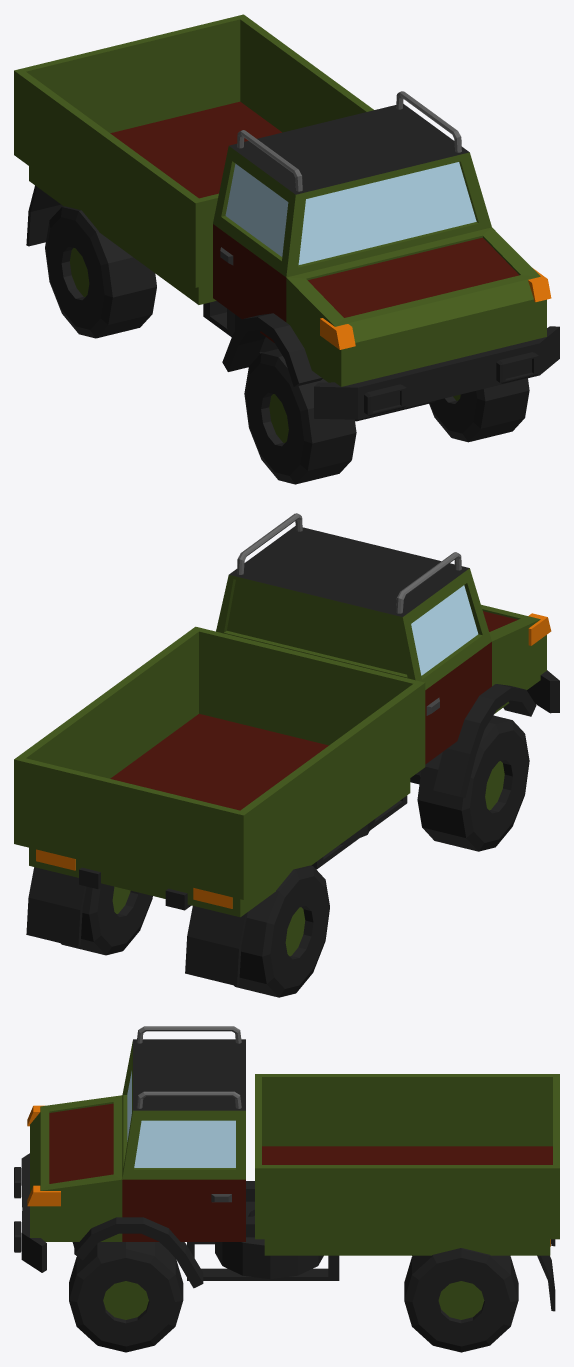
File: truck.glb
3 renders of one model, top to bottom at view 1: azimuth 30°, elevation 25°; view 2: azimuth 150°, elevation 25°; view 3: azimuth 270°, elevation 25°, orthographic. The views are drawn at different scales.
Parts seen in each view (by area): view 1: Scout_Car; view 2: Scout_Car; view 3: Scout_Car.
Boxes of the visible parts, box(x1,y1,x2,y2) form: Scout_Car: box(14, 14, 559, 484); Scout_Car: box(14, 513, 559, 997); Scout_Car: box(14, 1026, 559, 1352).
Size of the model in its own units: 1.94 by 2.23 by 4.43.
